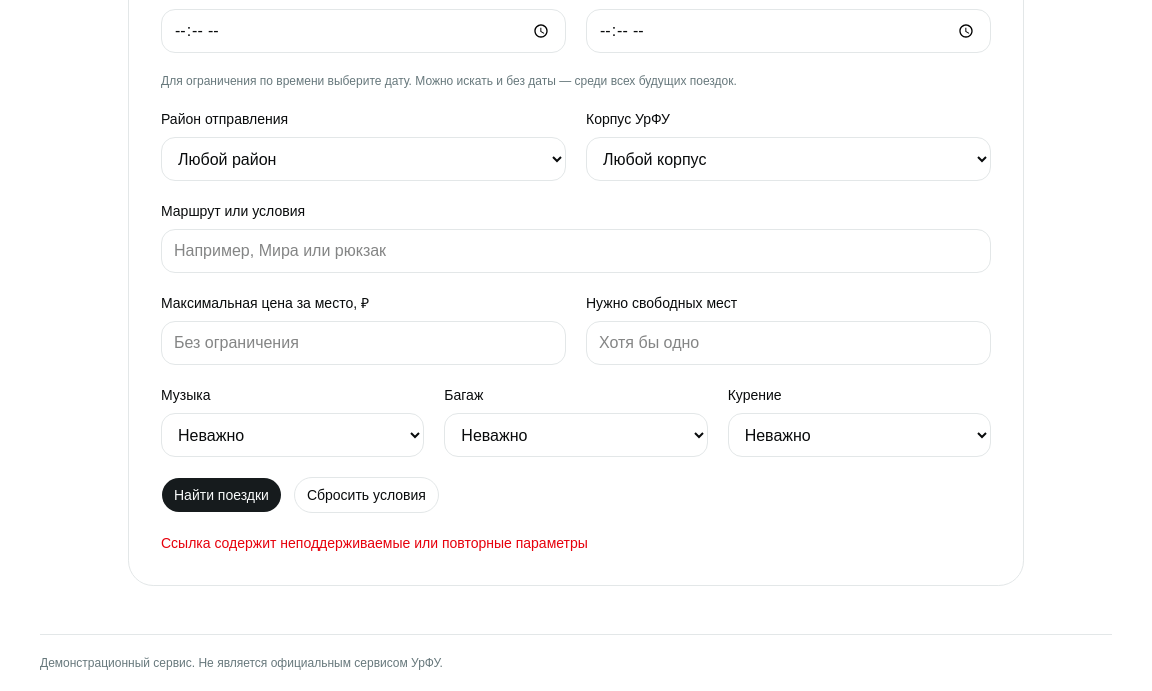
Форма публичного поиска › показывает некорректные параметры ссылки и позволяет сбросить их
This screenshot has width=1152, height=691.
(page scrolled)
Check: the message shows "неподдерживаемые", box [161, 535, 588, 551]
Click the button "Сбросить условия".
click(366, 495)  # box [294, 477, 439, 513]
(page scrolled)
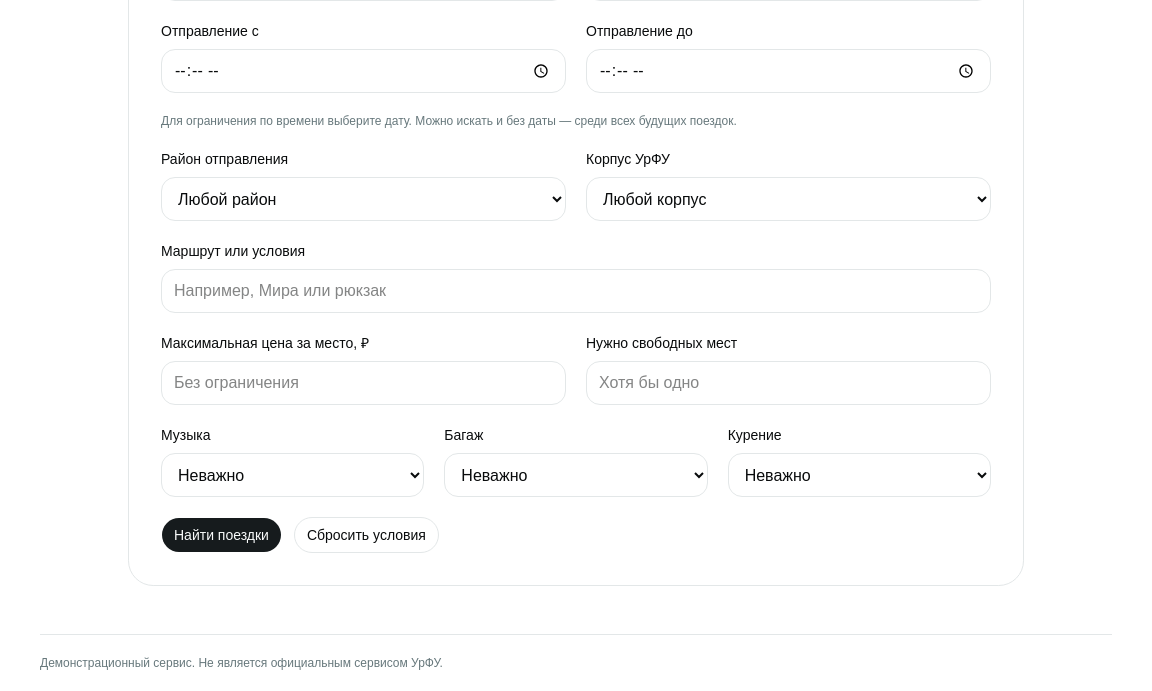
Check: the message "Ссылка содержит неподдерживаемые или повторные параметры" is gone
